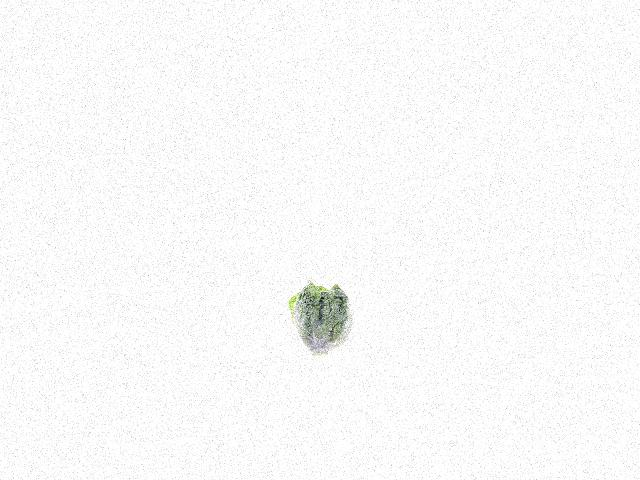lettuce: (285, 282, 355, 356)
